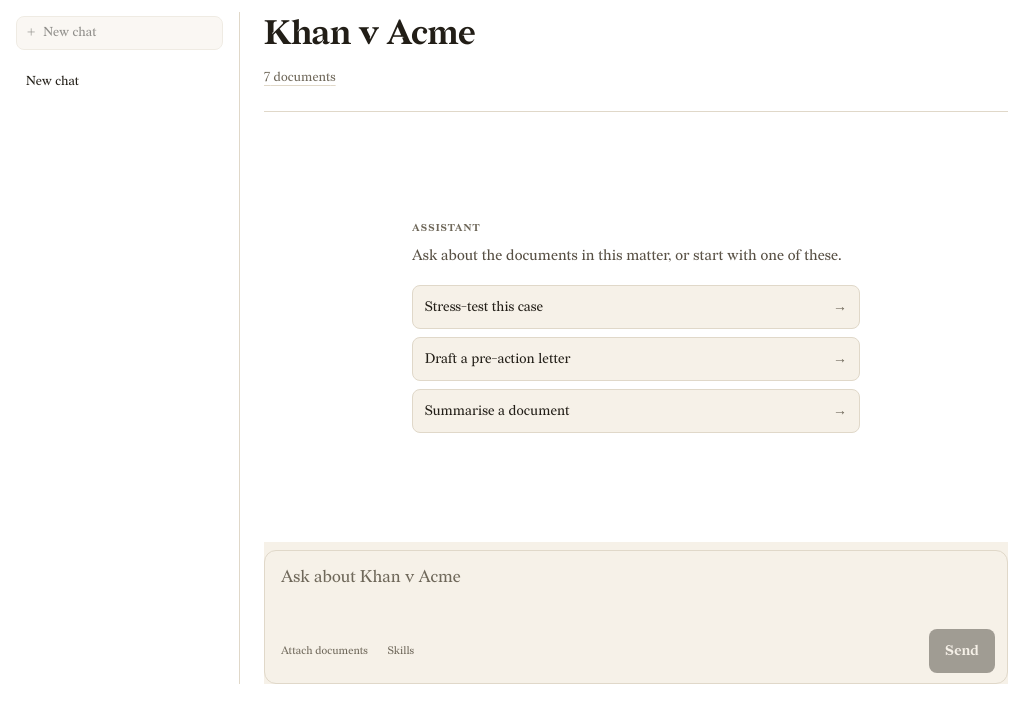
Test: AssistantTab — attach popover › lists every matter document, not just the 5 most recent
Click the button with test id "chat-documents-toggle" at (324, 651), box left=273, top=639, right=376, bottom=663
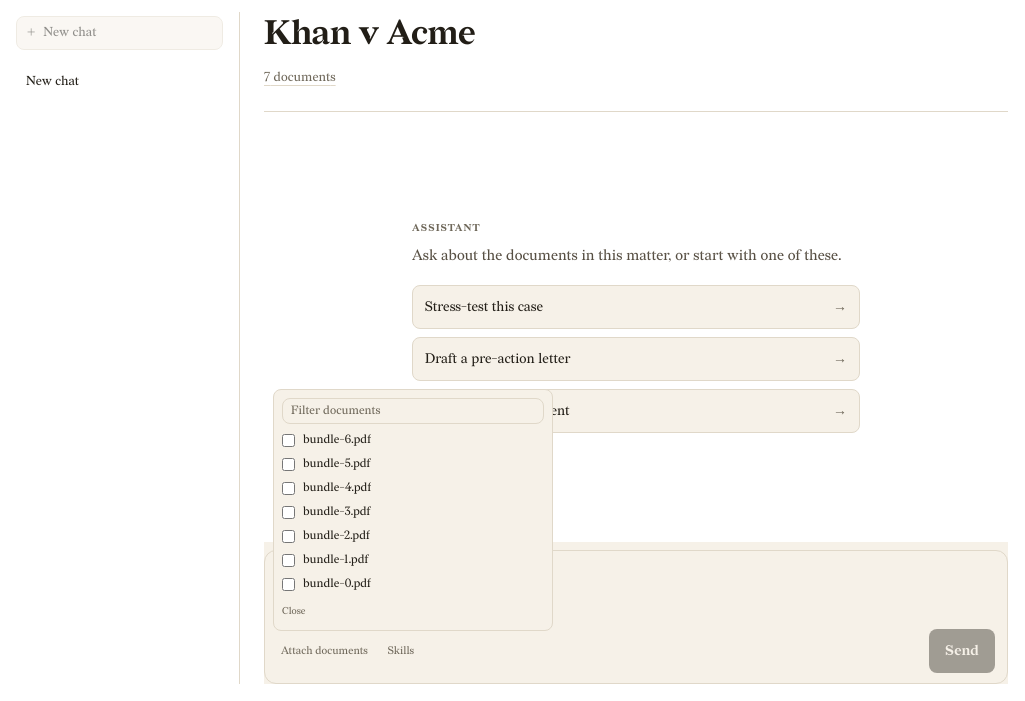
Check: the number of checkboxes is 7
